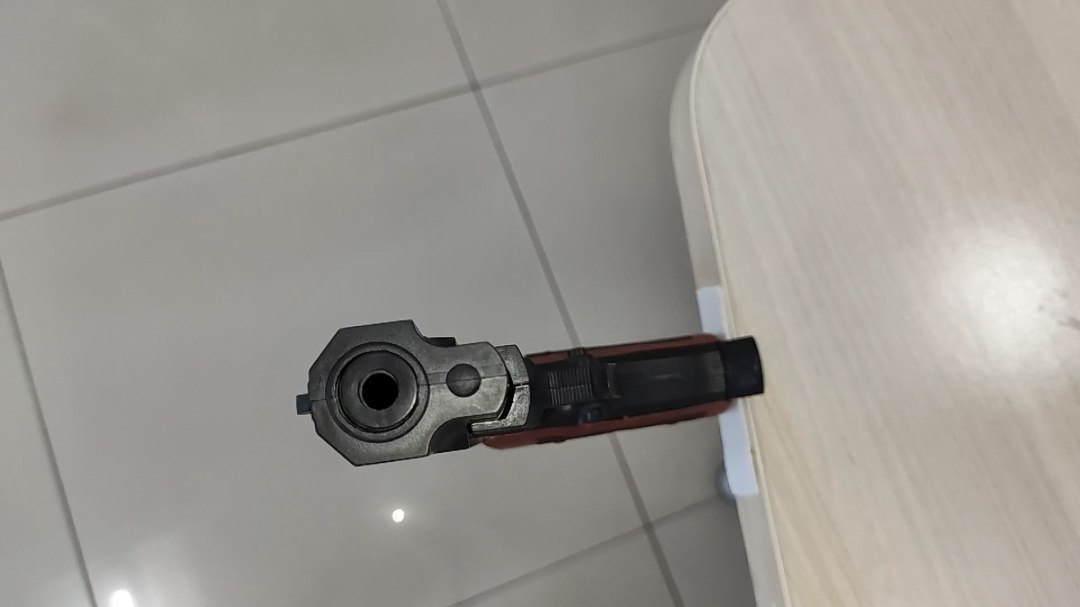gun: (377, 234, 416, 255)
